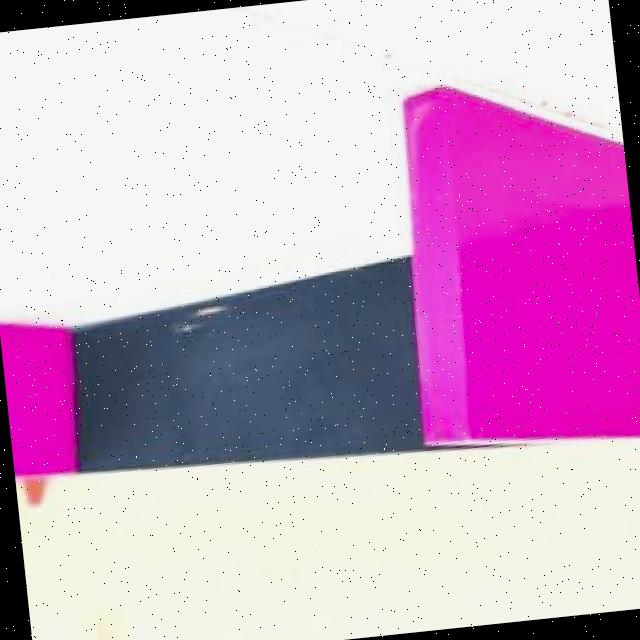xparking: (403, 104, 640, 441), (0, 334, 84, 476)
